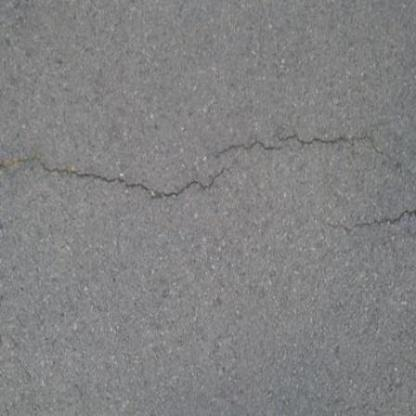Cracks: (3, 143, 254, 207), (183, 115, 416, 160), (303, 192, 416, 251)
